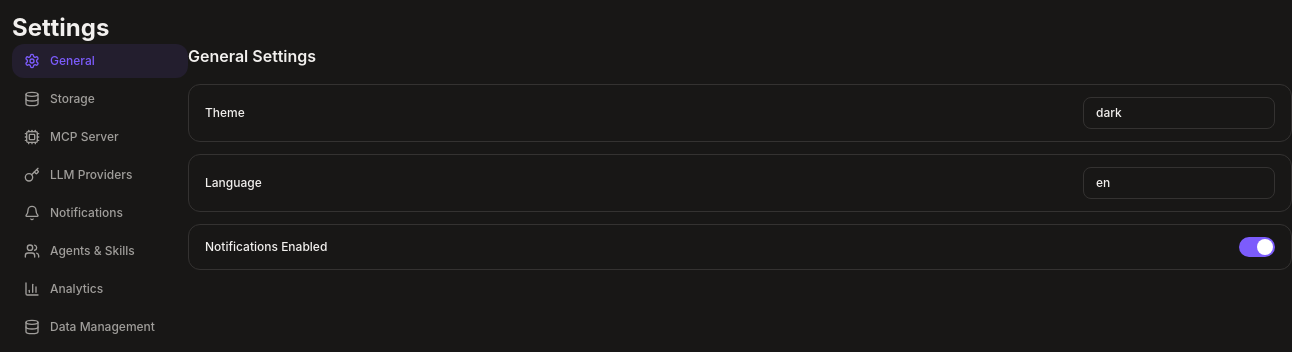
SettingsPage › discards changes when discard button is clicked
The image size is (1292, 352).
Replace the text in the field showing "dark" with "light" at (1179,113), box [1083,97,1275,129]
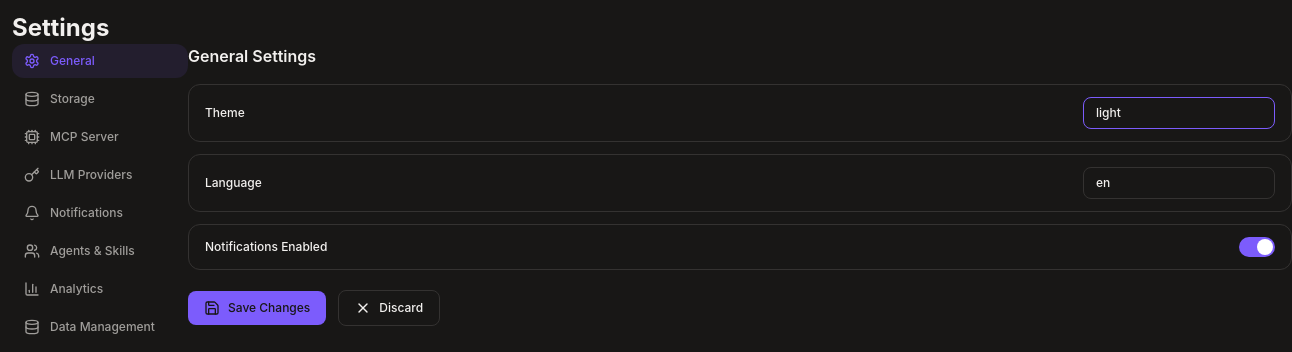
// Click discard
Click the button "Discard" at (389,308), box [338,290,440,326]
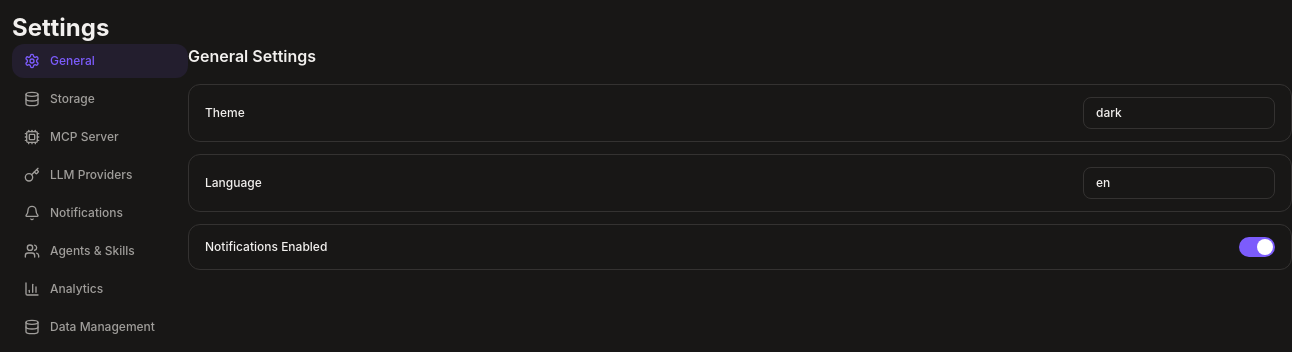
Now the field showing "dark" is shown, box [1083,97,1275,129]
Now the button "Save Changes" is gone
